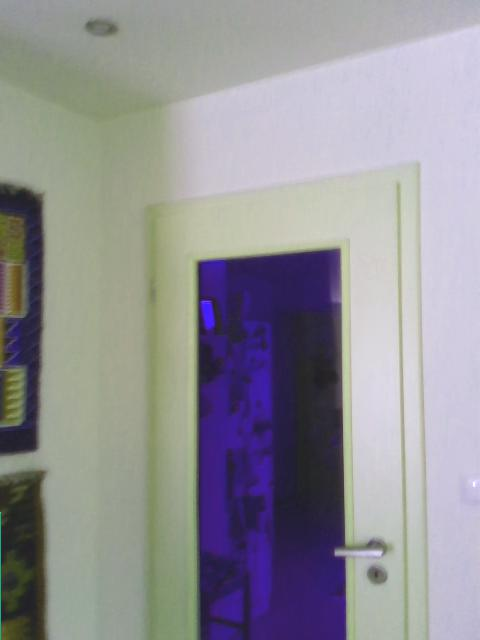closed_door: (143, 159, 430, 638)
